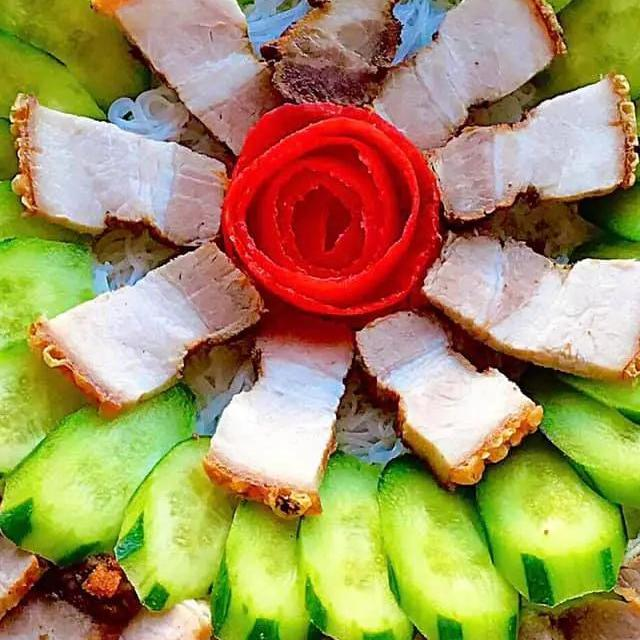banh hoi heo quay: (0, 0, 640, 640)
thit heo quay: (20, 229, 274, 424), (345, 294, 549, 500), (413, 218, 640, 393), (198, 287, 361, 528), (2, 85, 234, 250), (416, 61, 640, 225), (362, 0, 574, 164), (84, 0, 295, 164), (260, 0, 435, 128), (0, 499, 132, 640), (5, 581, 283, 640)
